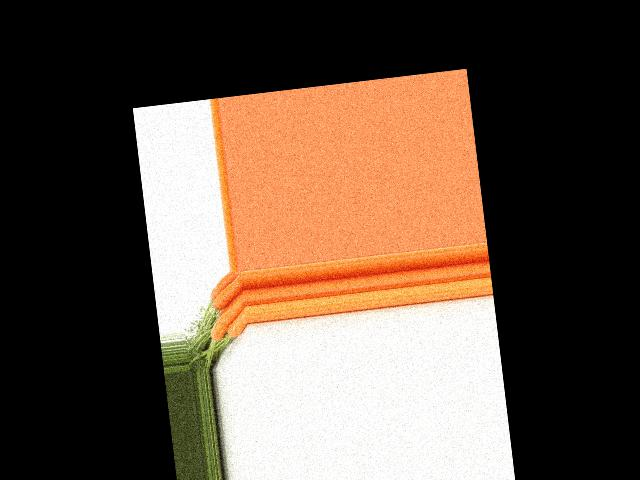carrot: (223, 308, 249, 338)
